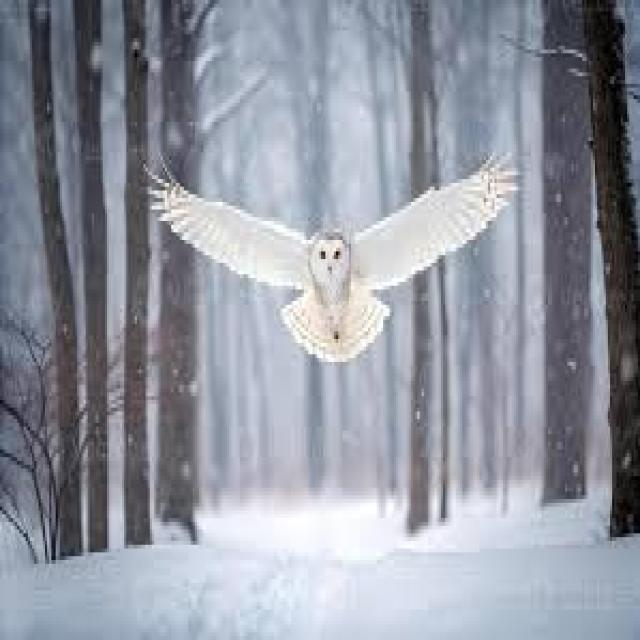snowy owl: (98, 135, 581, 428)
